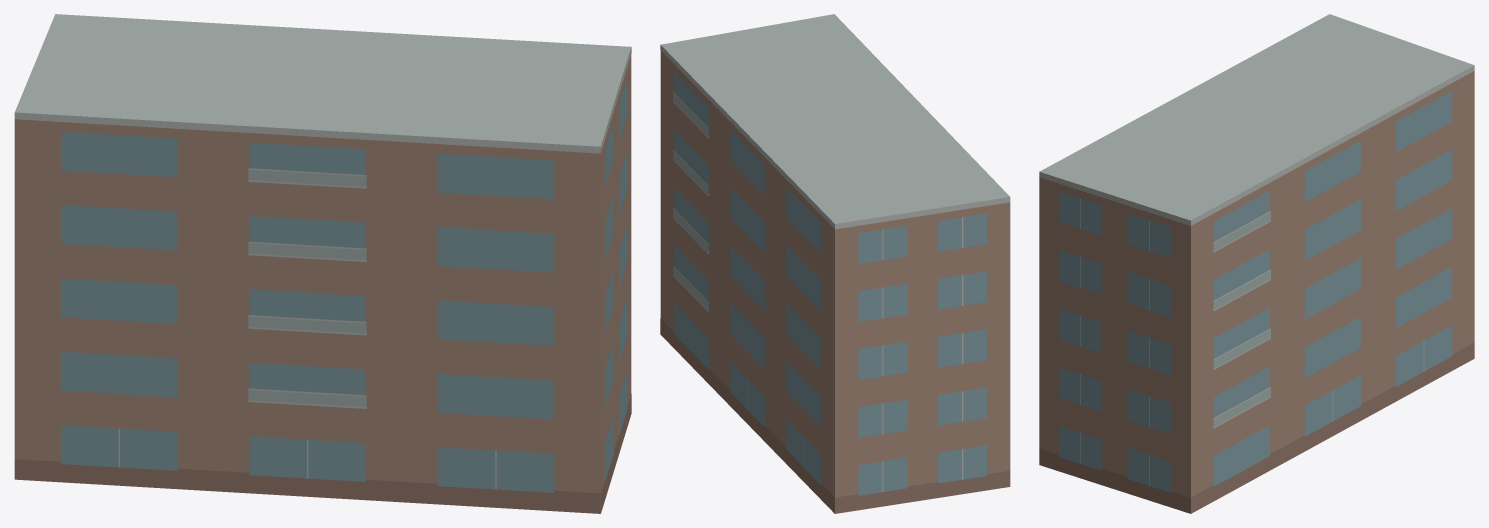
File: survey-upis-33012860.glb
3 views of the same model, side by side, from view 1: azimuth 30°, elevation 25°; view 2: azimuth 150°, elevation 25°; view 3: azimuth 270°, elevation 25° (orthographic). The views are drawn at different scales.
Visible parts, largest first — view 1: survey-upis-33012860.tmp; view 2: survey-upis-33012860.tmp; view 3: survey-upis-33012860.tmp.
Boxes of the visible parts, left/top/right/bottom form: survey-upis-33012860.tmp: left=14, top=14, right=631, bottom=513; survey-upis-33012860.tmp: left=660, top=14, right=1010, bottom=513; survey-upis-33012860.tmp: left=1039, top=14, right=1474, bottom=513.
Bounding box in the file's own units: 19.95 × 13.2 × 17.77.
